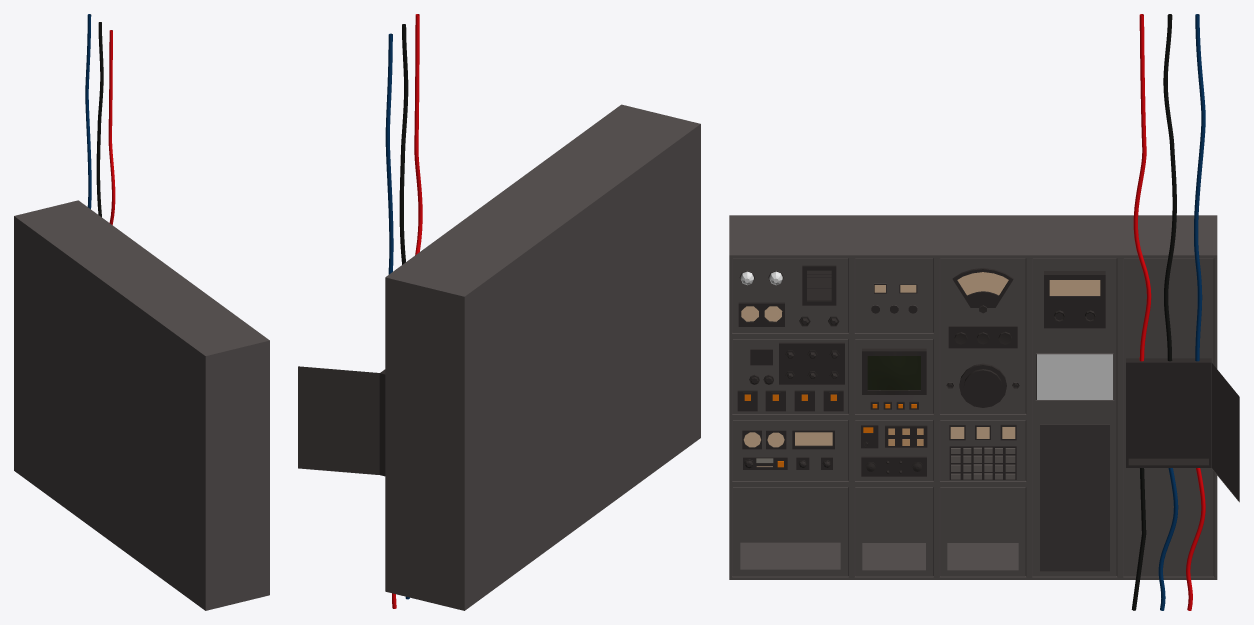
File: panel luz.fbx
3 renders of one model, left to right at view 1: azimuth 30°, elevation 25°; view 2: azimuth 150°, elevation 25°; view 3: azimuth 270°, elevation 25°, orthographic. The views are drawn at different scales.
Parts seen in each view (by area): view 1: panel luz, BézierCurve.002, BézierCurve, BézierCurve.004; view 2: panel luz, pierta, BézierCurve, BézierCurve.004, BézierCurve.002; view 3: panel luz, panel luz.001, pierta, BézierCurve, BézierCurve.002, BézierCurve.004, BézierCurve.003, BézierCurve.005, BézierCurve.001.
Part boxes in pixels (x1,y1,x2,y2): panel luz: (14,200,269,610); BézierCurve.002: (96,22,103,217); BézierCurve: (108,30,115,224); BézierCurve.004: (85,14,91,208); panel luz: (379,104,700,610); pierta: (298,366,379,474); BézierCurve: (414,14,422,255); BézierCurve.004: (385,33,393,274); BézierCurve.002: (399,24,408,264); panel luz: (729,215,1217,579); panel luz.001: (1040,424,1109,571); pierta: (1211,362,1239,502); BézierCurve: (1133,14,1151,361); BézierCurve.002: (1163,14,1176,361); BézierCurve.004: (1194,14,1205,361); BézierCurve.003: (1158,468,1178,610); BézierCurve.005: (1186,468,1205,610); BézierCurve.001: (1131,468,1146,610).
Size of the model in its own units: 123 by 436 by 339.
